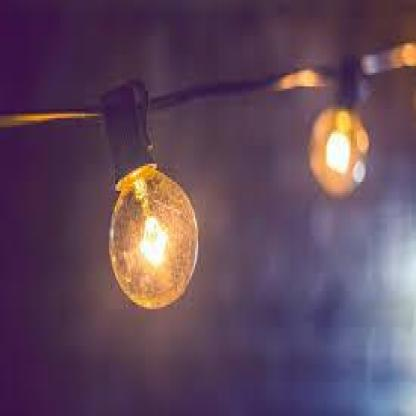other: (111, 186, 199, 295), (318, 114, 366, 180)
